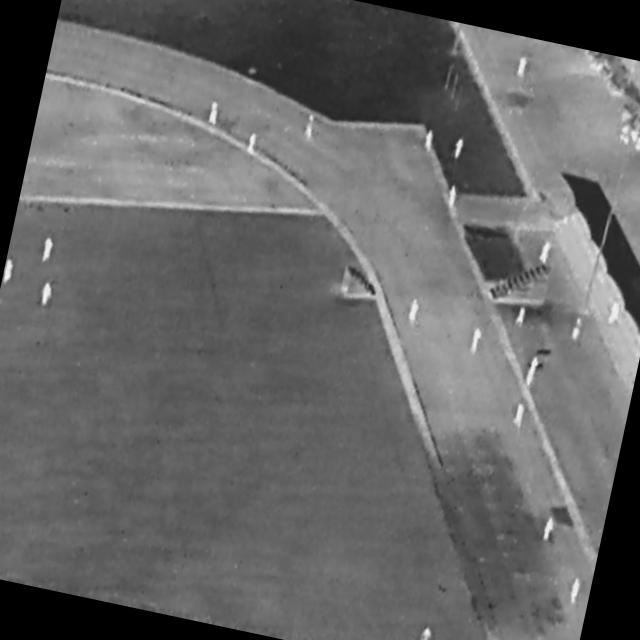person: (525, 356, 541, 387), (607, 300, 622, 328), (39, 283, 55, 309), (538, 240, 553, 267), (41, 237, 55, 264), (543, 515, 557, 542), (469, 328, 483, 355), (513, 404, 527, 430), (422, 129, 436, 154), (208, 100, 221, 126), (304, 114, 317, 140), (570, 577, 582, 605), (408, 298, 421, 323), (3, 259, 15, 286), (571, 318, 584, 342), (446, 185, 459, 209), (452, 137, 465, 161), (516, 56, 529, 80), (514, 307, 527, 327), (415, 626, 433, 640), (247, 133, 258, 155)
